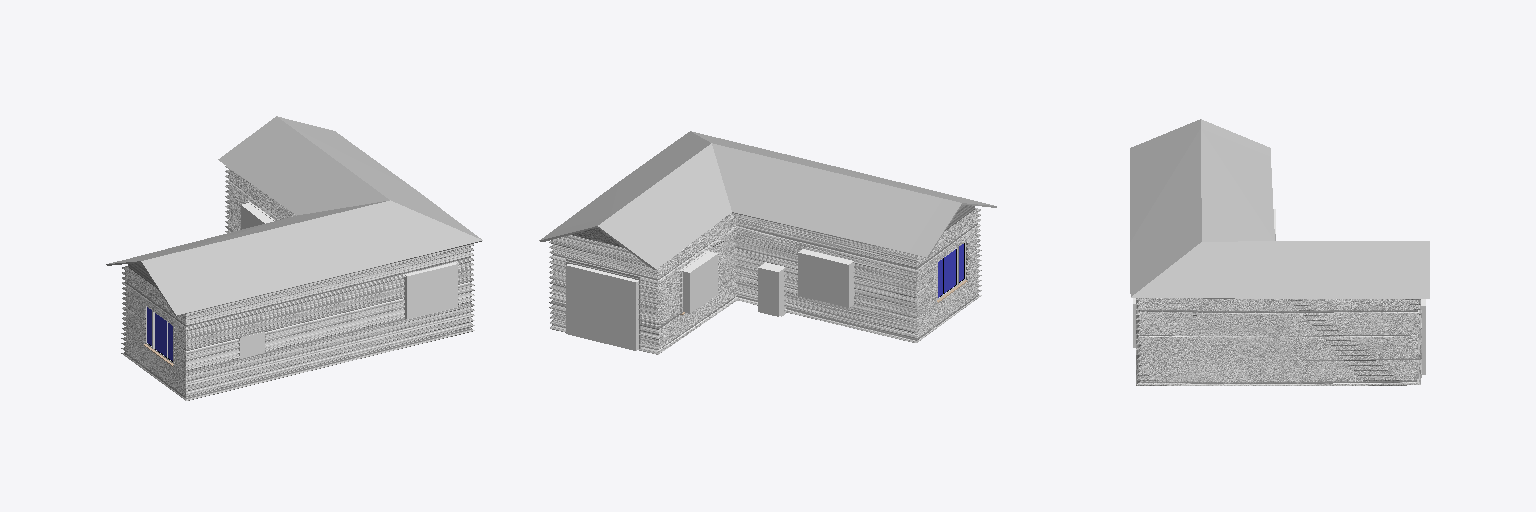
3 views of the same model, side by side, from view 1: azimuth 30°, elevation 25°; view 2: azimuth 150°, elevation 25°; view 3: azimuth 270°, elevation 25° (orthographic).
Parts seen in each view (by area): view 1: Techo, CTRL_Hole.004, Window.001, CTRL_Hole.003, CTRL_Hole.006; view 2: Techo, CTRL_Hole.007, CTRL_Hole.001, CTRL_Hole.006, CTRL_Hole, Window.001, Cube; view 3: Techo.
Boxes of the visible parts, box(x1,y1,x2,y2) form: Techo: box(106, 116, 482, 400); CTRL_Hole.004: box(404, 262, 457, 319); Window.001: box(144, 306, 174, 366); CTRL_Hole.003: box(238, 332, 264, 358); CTRL_Hole.006: box(241, 202, 273, 229); Techo: box(539, 131, 996, 354); CTRL_Hole.007: box(566, 264, 638, 350); CTRL_Hole.001: box(798, 249, 854, 307); CTRL_Hole.006: box(680, 251, 717, 313); CTRL_Hole: box(758, 262, 785, 316); Window.001: box(936, 242, 967, 302); Cube: box(572, 205, 974, 247); Techo: box(1130, 119, 1429, 385).
Size of the model in its own units: 15.24 by 5.81 by 12.81.
15 materials, 2 textured.